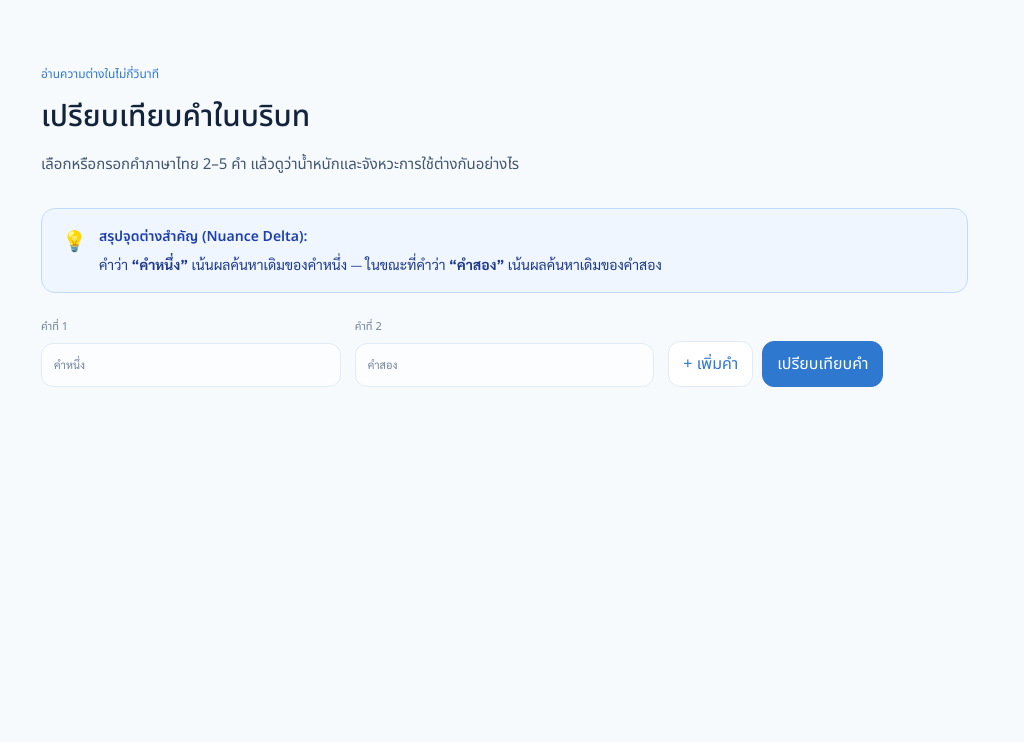
Scenario: ContextComparator › does not use fallback search metadata as official comparison data
This screenshot has width=1024, height=742.
What coordinates should you click on to do the following:
click the button "เปรียบเทียบคำ"
I would click on:
 (823, 364)
Its box is [762,341,884,387].
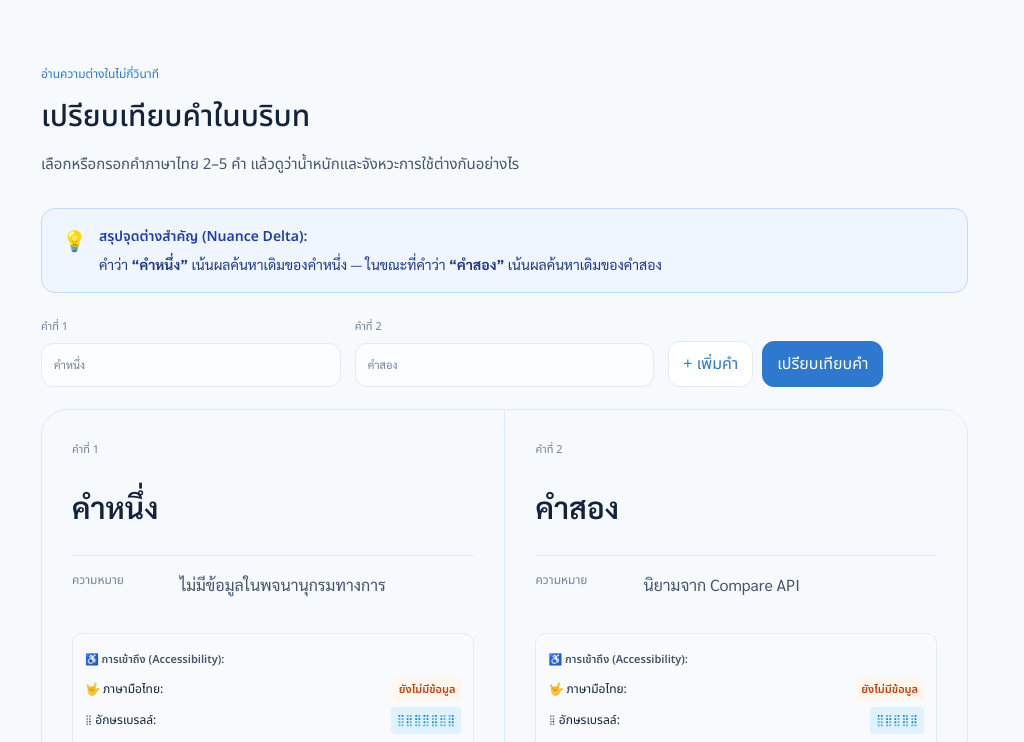
expect the text "ไม่มีข้อมูลในพจนานุกรมทางการ" is shown: met, box [180,574,386,595]
